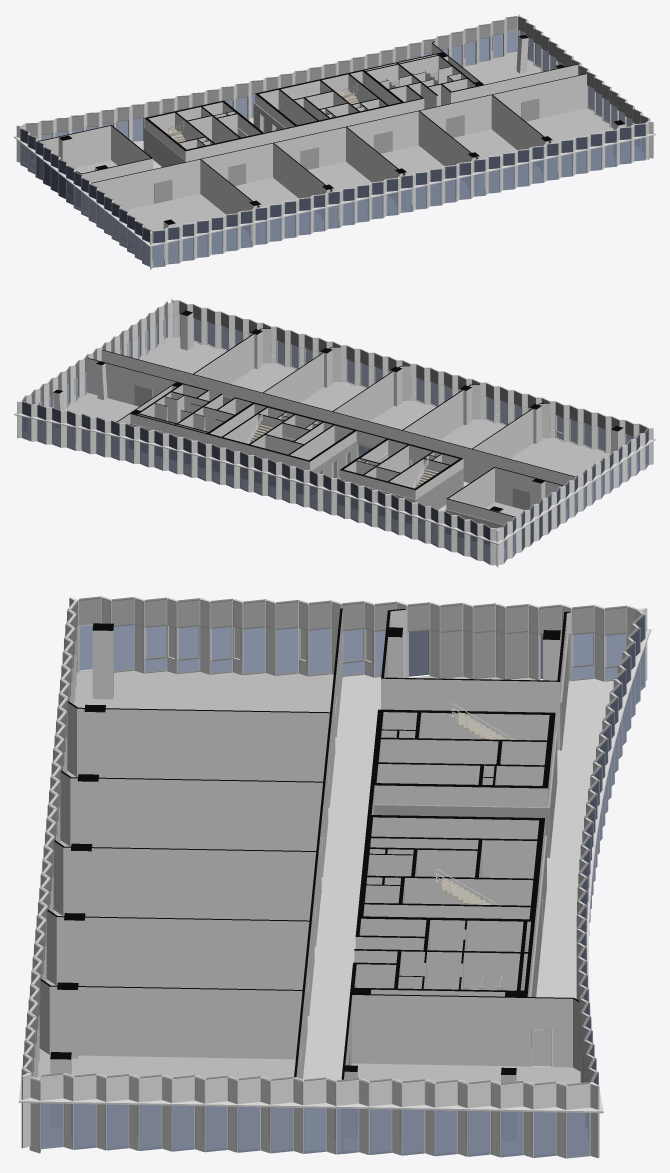
3 views of the same model, one above another, from view 1: azimuth 30°, elevation 25°; view 2: azimuth 150°, elevation 25°; view 3: azimuth 270°, elevation 25° (orthographic). The views are drawn at different scales.
Parts seen in each view (by area): view 1: A5-8F_Wall, A5-8F_GlassFrame, A5-8F_Glass, A5-8F_Floor, A5-8F_Exterior, A5-8F_Pillar, A5-8F_Door, A5-8F_Wall2, A5-8F_Stairs; view 2: A5-8F_Wall, A5-8F_GlassFrame, A5-8F_Glass, A5-8F_Floor, A5-8F_Pillar, A5-8F_Wall2, A5-8F_Exterior, A5-8F_Door, A5-8F_Stairs; view 3: A5-8F_Wall, A5-8F_GlassFrame, A5-8F_Floor, A5-8F_Glass, A5-8F_Pillar, A5-8F_Exterior, A5-8F_Wall2, A5-8F_Door, A5-8F_Stairs.
Part boxes in pixels (box(x1,y1,x2,y2)): A5-8F_Wall: box(37, 41, 586, 242); A5-8F_GlassFrame: box(20, 16, 650, 267); A5-8F_Glass: box(20, 30, 645, 267); A5-8F_Floor: box(23, 52, 643, 265); A5-8F_Exterior: box(14, 14, 655, 269); A5-8F_Pillar: box(58, 35, 625, 258); A5-8F_Door: box(154, 98, 539, 203); A5-8F_Wall2: box(143, 102, 285, 167); A5-8F_Stairs: box(164, 84, 358, 142); A5-8F_Wall: box(87, 328, 575, 524); A5-8F_GlassFrame: box(21, 300, 648, 565); A5-8F_Glass: box(22, 315, 648, 564); A5-8F_Floor: box(24, 337, 646, 561); A5-8F_Pillar: box(53, 310, 623, 513); A5-8F_Wall2: box(129, 423, 513, 546); A5-8F_Exterior: box(14, 298, 655, 567); A5-8F_Door: box(127, 385, 529, 509); A5-8F_Stairs: box(244, 412, 439, 488); A5-8F_Wall: box(39, 608, 579, 1151); A5-8F_GlassFrame: box(21, 596, 645, 1158); A5-8F_Floor: box(37, 670, 613, 1158); A5-8F_Glass: box(22, 602, 645, 1158); A5-8F_Pillar: box(50, 623, 560, 1140); A5-8F_Exterior: box(18, 597, 651, 1158); A5-8F_Wall2: box(374, 633, 571, 1047); A5-8F_Door: box(300, 673, 551, 1079); A5-8F_Stairs: box(436, 703, 514, 905).
Size of the model in its own units: 61.7 by 5.55 by 33.45.
